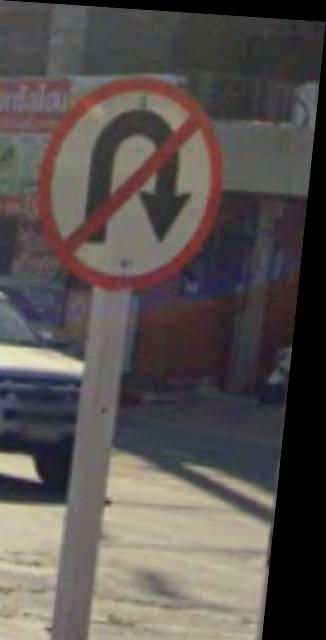not_u_turn_right: (38, 66, 234, 290)
